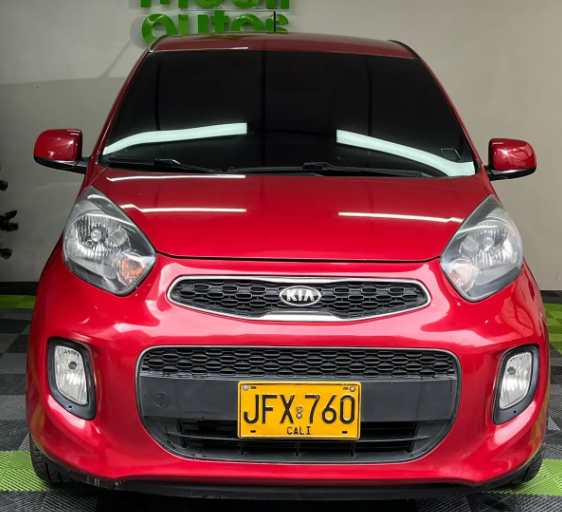placa: (239, 380, 361, 442)
